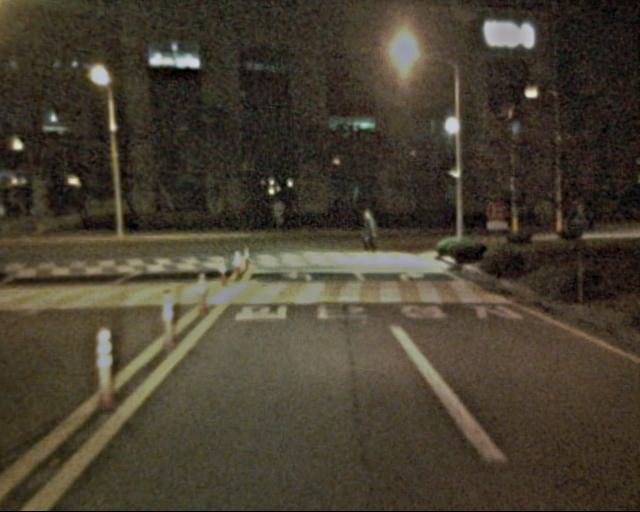person: (357, 211, 380, 267)
